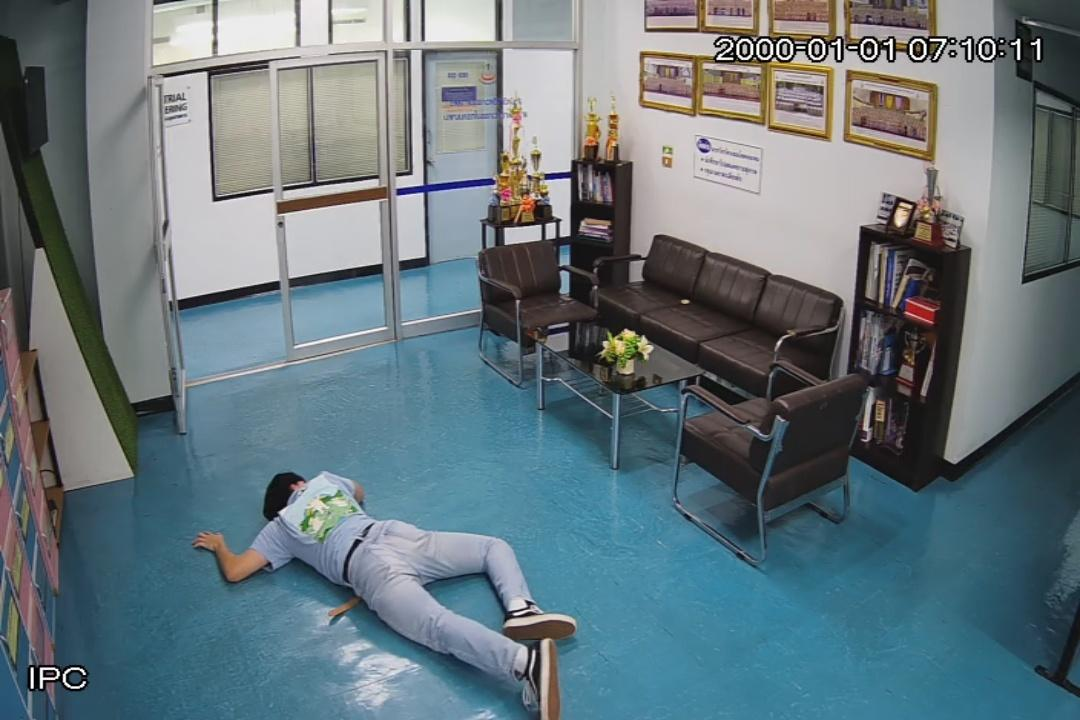fall: (196, 469, 576, 716)
